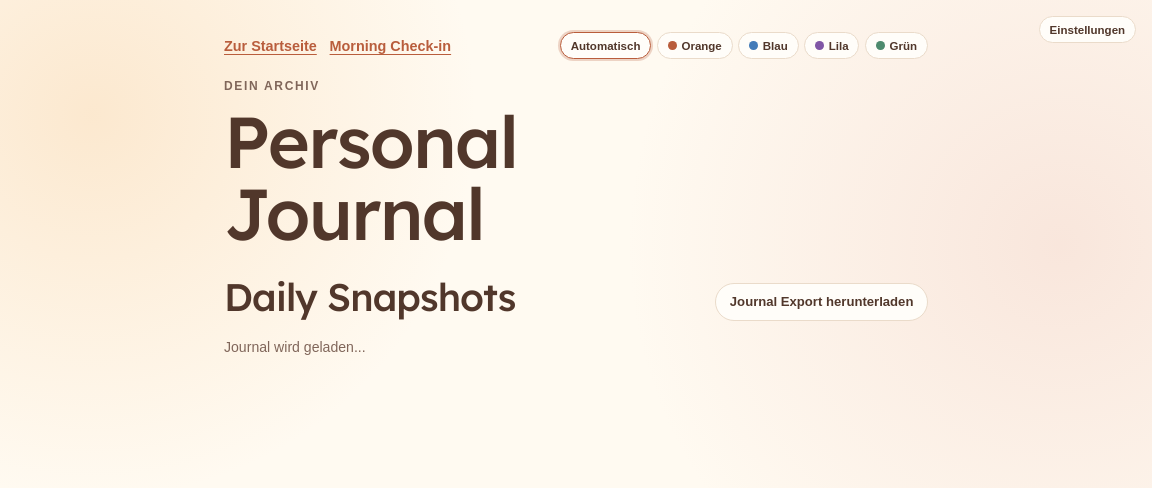
Scenario: the Personal Journal configuration explains local deletion failures
Click the button "Einstellungen" at coordinates (1087, 30), box 1039,16 -> 1136,43
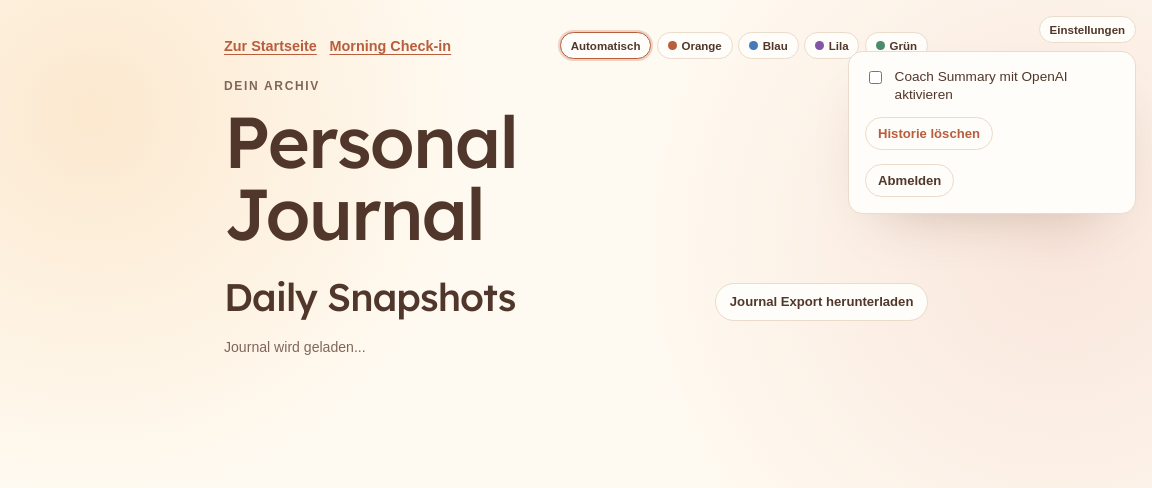
Click the button "Historie löschen" at coordinates (929, 134), box 865,117 -> 993,150
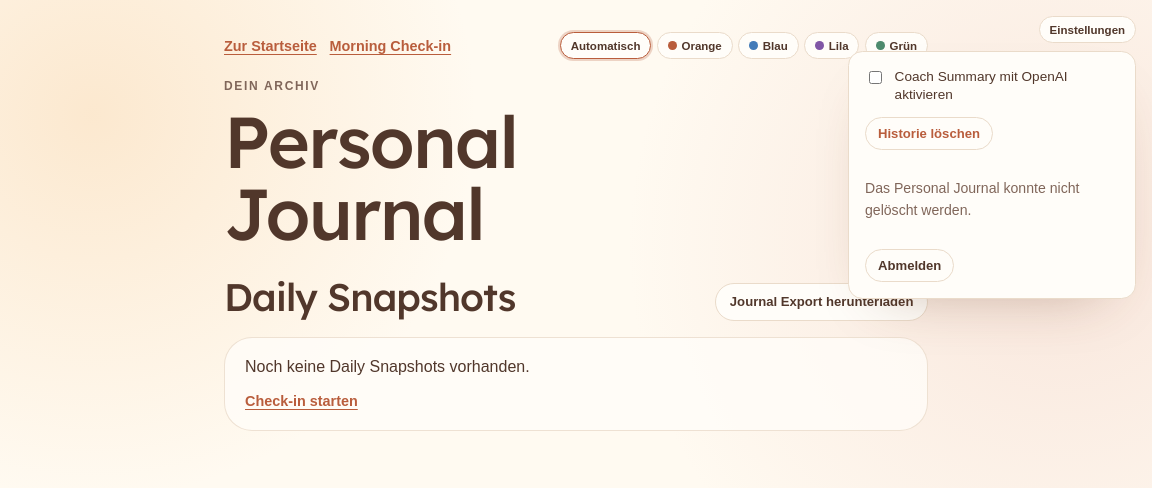
Result: the button "Historie löschen" is enabled at 865,117 -> 993,150
Result: the message reads "Das Personal Journal konnte nicht gelöscht werden." at 865,180 -> 1079,218
